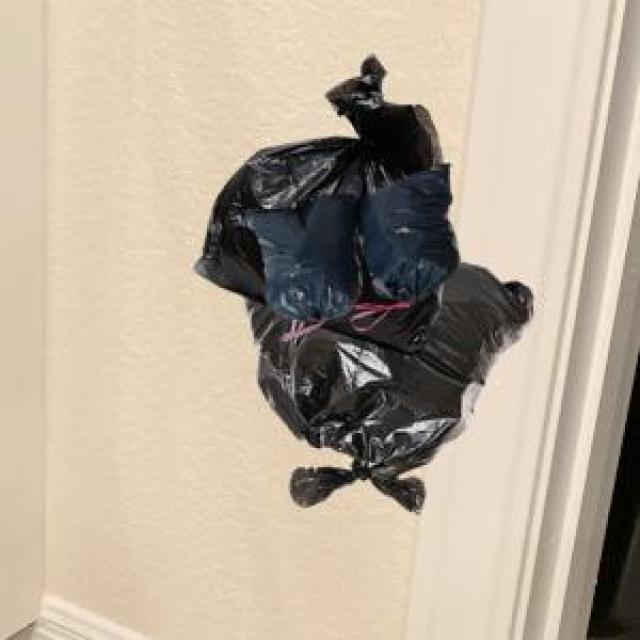waste: (195, 58, 532, 511)
